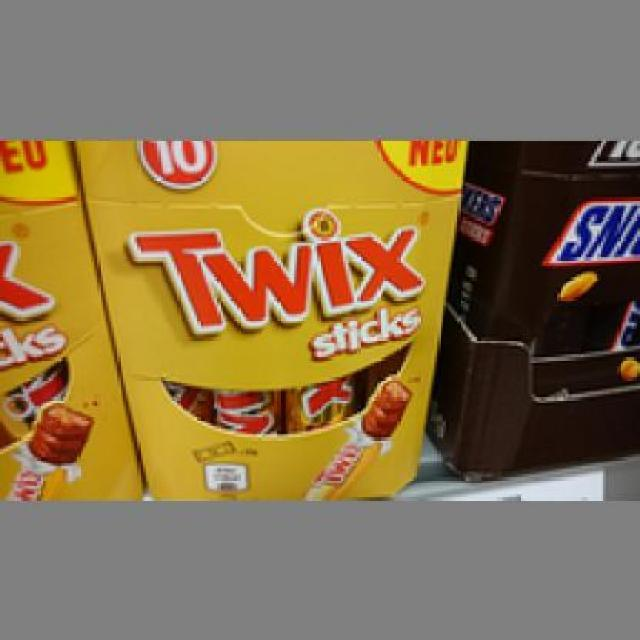Chocolate: (91, 200, 452, 500), (462, 137, 635, 477)
